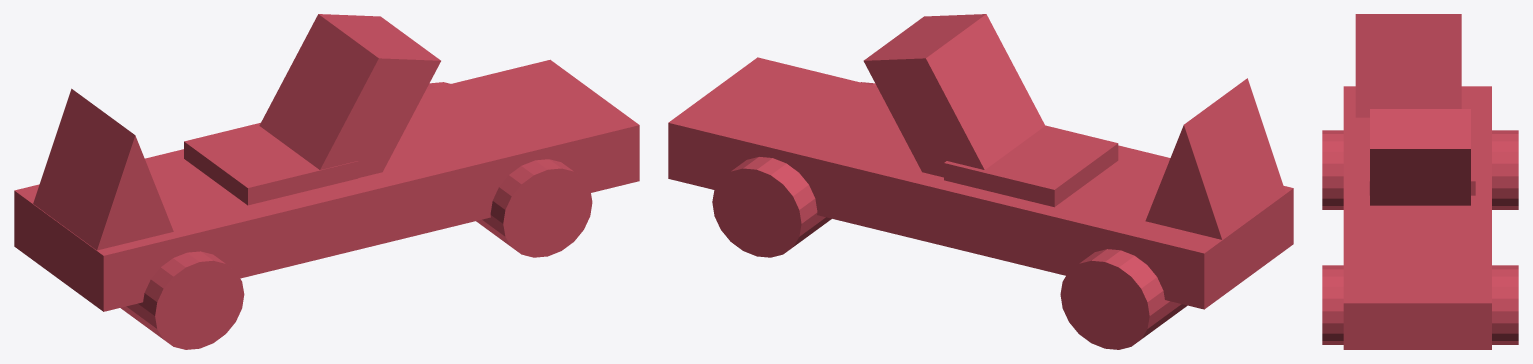
The model's file is CAR.glb.
3 views of the same model, side by side, from view 1: azimuth 30°, elevation 25°; view 2: azimuth 150°, elevation 25°; view 3: azimuth 270°, elevation 25° (orthographic). The views are drawn at different scales.
Visible parts, largest first — view 1: Mesh_Mesh_head_geo.001_lambert2SG.001; view 2: Mesh_Mesh_head_geo.001_lambert2SG.001; view 3: Mesh_Mesh_head_geo.001_lambert2SG.001.
Part boxes in pixels (box(x1,y1,x2,y2)): Mesh_Mesh_head_geo.001_lambert2SG.001: box(14, 14, 639, 349); Mesh_Mesh_head_geo.001_lambert2SG.001: box(668, 14, 1293, 349); Mesh_Mesh_head_geo.001_lambert2SG.001: box(1322, 14, 1518, 349).
Size of the model in its own units: 97 by 37.8 by 37.
